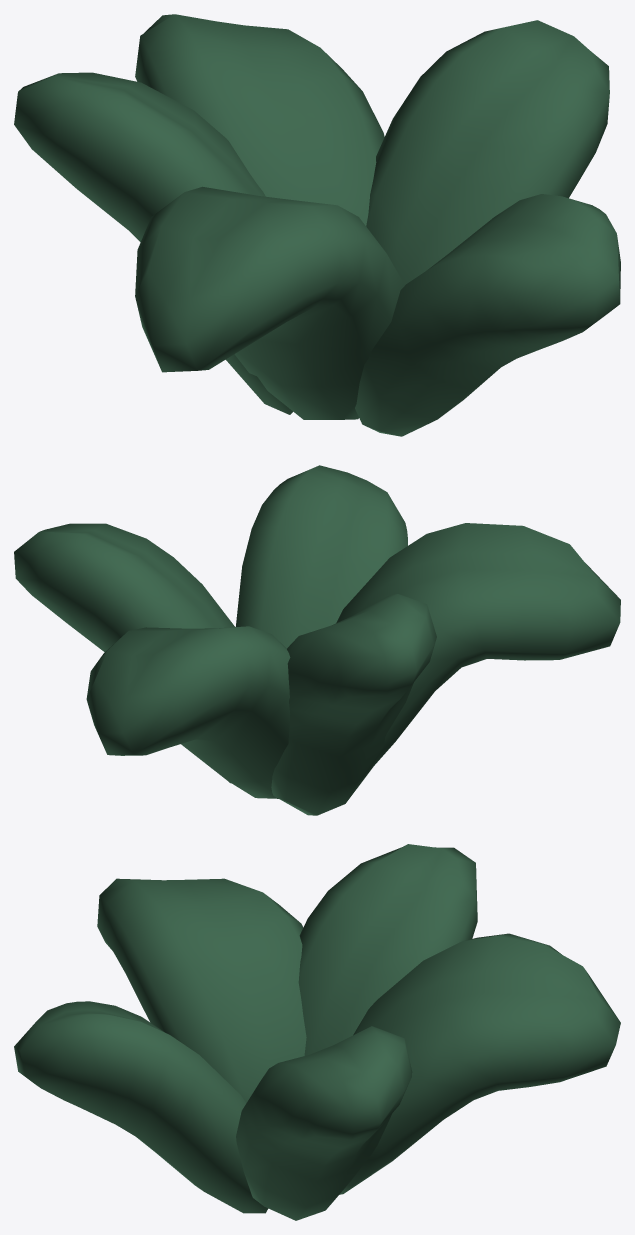
The model's file is zhiwu.fbx.
The picture shows the model from 3 angles, top to bottom: view 1: azimuth 30°, elevation 25°; view 2: azimuth 150°, elevation 25°; view 3: azimuth 270°, elevation 25°; orthographic projection. The views are drawn at different scales.
Visible parts, largest first — view 1: Plant_B_02_LOD1_Mat_Nature_0.005; view 2: Plant_B_02_LOD1_Mat_Nature_0.005; view 3: Plant_B_02_LOD1_Mat_Nature_0.005.
Boxes of the visible parts, left/top/right/bottom form: Plant_B_02_LOD1_Mat_Nature_0.005: left=14, top=14, right=620, bottom=436; Plant_B_02_LOD1_Mat_Nature_0.005: left=14, top=465, right=620, bottom=815; Plant_B_02_LOD1_Mat_Nature_0.005: left=14, top=844, right=620, bottom=1220.
Bounding box in the file's own units: 0.9625 × 0.5232 × 1.04.
